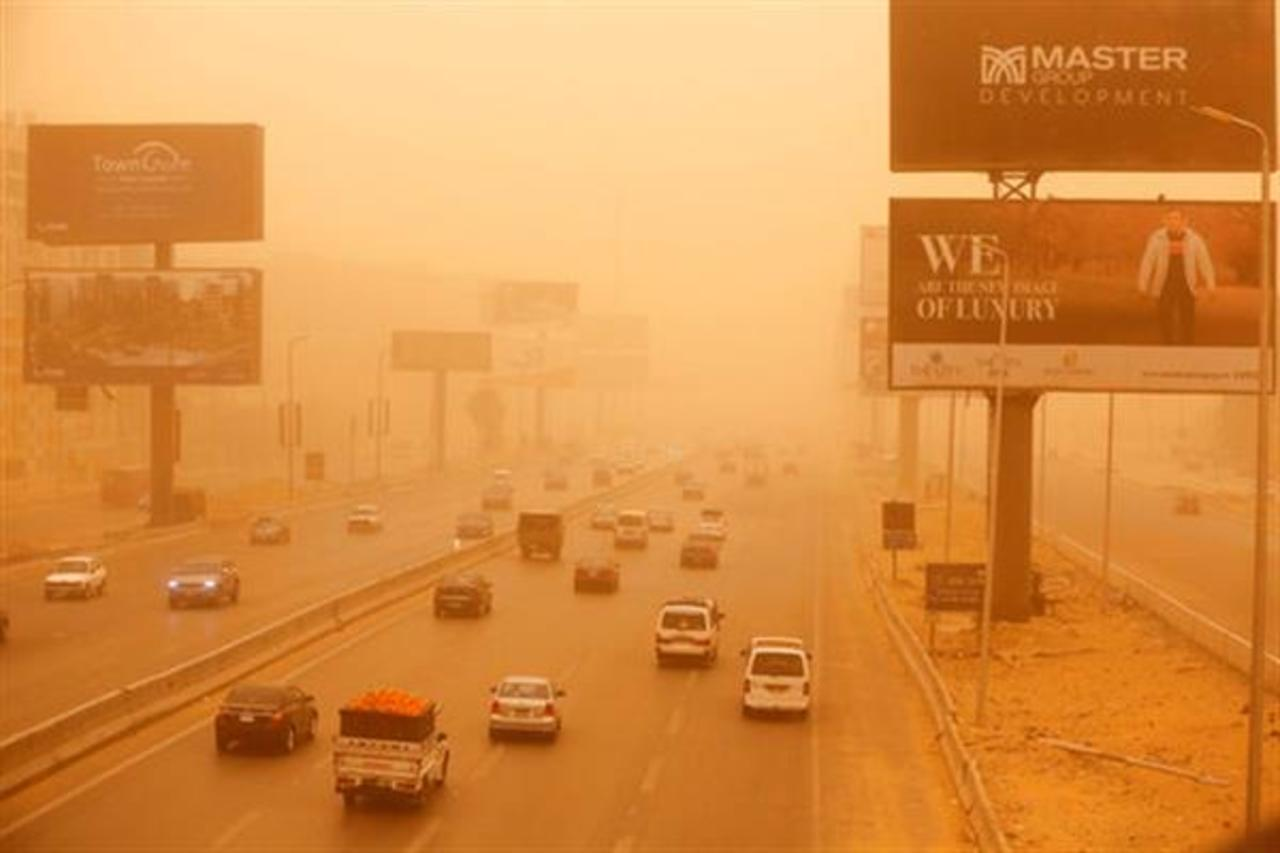car: (214, 681, 318, 756), (738, 636, 813, 717), (484, 675, 563, 741), (652, 599, 721, 668), (163, 557, 241, 610), (42, 555, 108, 602), (433, 572, 495, 619), (575, 555, 621, 593), (343, 506, 384, 535), (677, 535, 713, 567), (251, 516, 287, 546), (456, 513, 492, 543), (616, 512, 646, 547), (589, 505, 621, 530), (700, 512, 726, 538), (682, 482, 706, 504), (481, 486, 510, 504), (647, 503, 667, 526), (541, 470, 566, 488), (592, 468, 611, 484)
truck: (331, 685, 453, 807), (517, 514, 564, 558), (745, 453, 768, 486)
